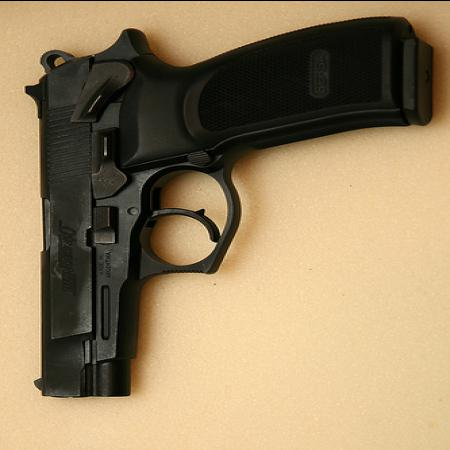Pistol: (23, 17, 435, 399)
